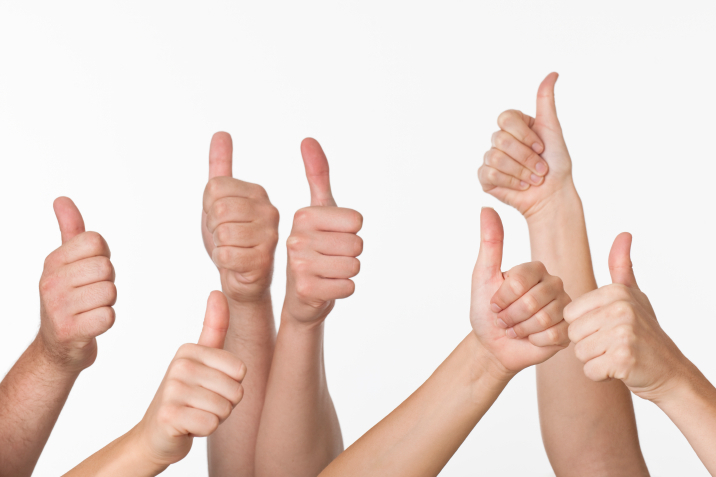thumbsup: (475, 204, 573, 351), (156, 290, 246, 438), (286, 137, 362, 301), (563, 232, 642, 379), (200, 131, 280, 275), (37, 195, 116, 338), (476, 71, 559, 194)
